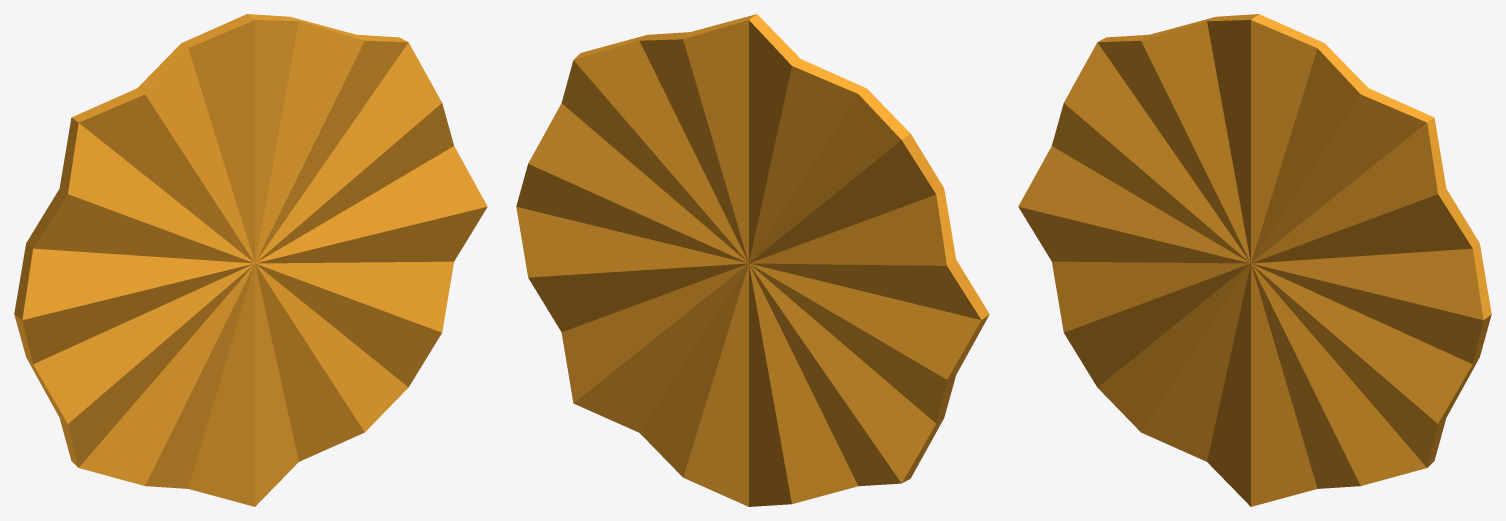
The model's file is SM_Decor_Circle_D_4july.fbx.
The picture shows the model from 3 angles, left to right: view 1: azimuth 30°, elevation 25°; view 2: azimuth 150°, elevation 25°; view 3: azimuth 330°, elevation 25°; orthographic projection.
Visible parts, largest first — view 1: decor-circle-d-4july; view 2: decor-circle-d-4july; view 3: decor-circle-d-4july.
Part boxes in pixels (box(x1,y1,x2,y2)): decor-circle-d-4july: box(14, 14, 487, 506); decor-circle-d-4july: box(516, 14, 989, 506); decor-circle-d-4july: box(1018, 14, 1491, 506).
Bounding box in the file's own units: 0.3305 × 0.3305 × 0.024.
